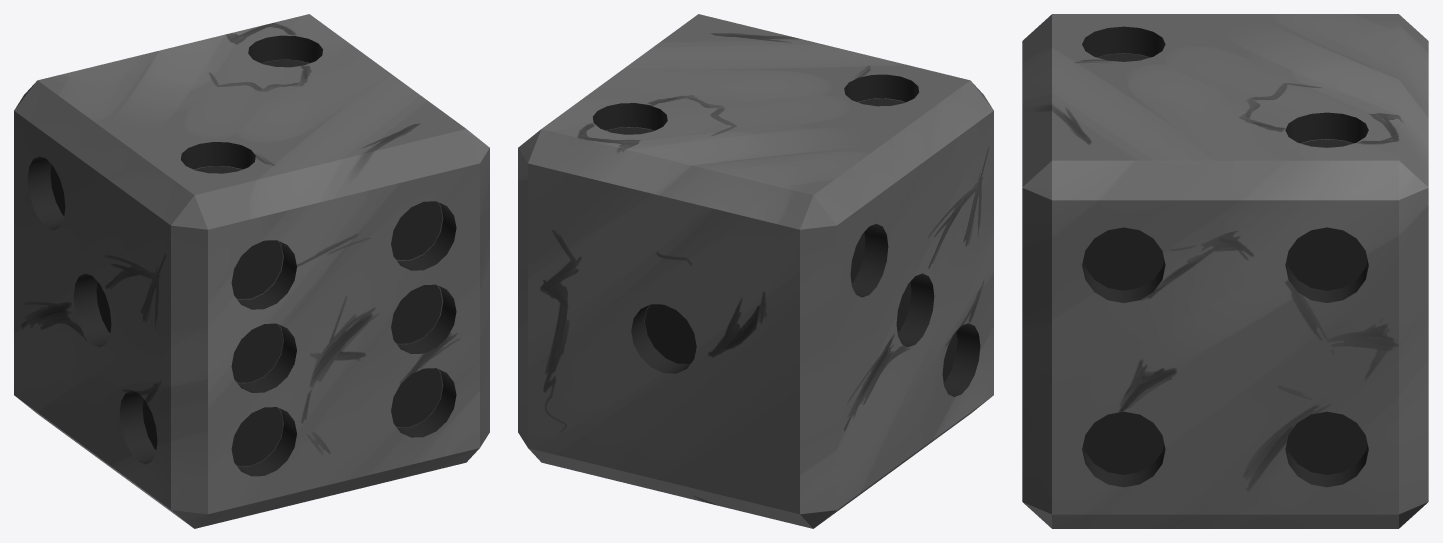
File: Big Dice.fbx
The picture shows the model from 3 angles, left to right: view 1: azimuth 30°, elevation 25°; view 2: azimuth 150°, elevation 25°; view 3: azimuth 270°, elevation 25°; orthographic projection. The views are drawn at different scales.
Visible parts, largest first — view 1: pCube1; view 2: pCube1; view 3: pCube1.
Boxes of the visible parts, bbox=[...] form: pCube1: bbox=[14, 14, 489, 528]; pCube1: bbox=[518, 14, 993, 528]; pCube1: bbox=[1022, 14, 1428, 528].
Size of the model in its own units: 342 by 342 by 342.
Materials: 1 (1 with a texture image).
